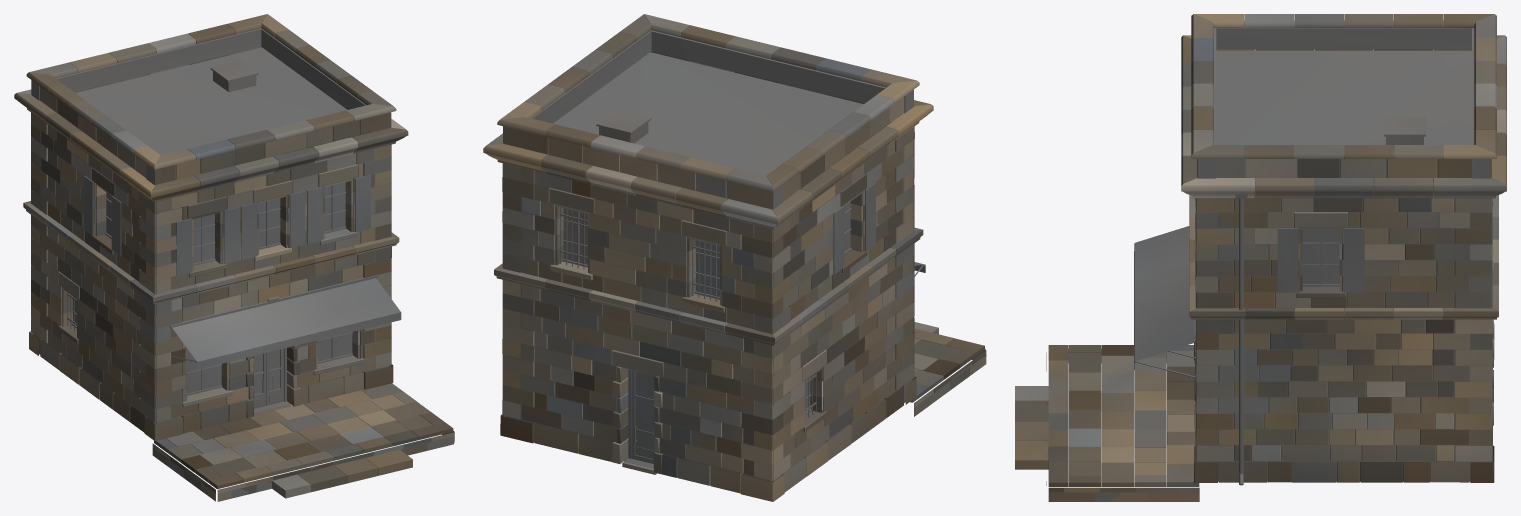
File: Finery_LOD1.glb
3 renders of one model, left to right at view 1: azimuth 30°, elevation 25°; view 2: azimuth 150°, elevation 25°; view 3: azimuth 270°, elevation 25°, orthographic. The views are drawn at different scales.
Parts seen in each view (by area): view 1: Finery_Masonry_LOD1, Finery_Trim_LOD1, Finery_Porch_LOD1, Finery_Roof_LOD1, Finery_Metal_LOD1, Finery_Canvas_LOD1, Finery_Glass_LOD1; view 2: Finery_Masonry_LOD1, Finery_Trim_LOD1, Finery_Roof_LOD1, Finery_Metal_LOD1, Finery_Porch_LOD1, Finery_Glass_LOD1; view 3: Finery_Masonry_LOD1, Finery_Trim_LOD1, Finery_Porch_LOD1, Finery_Roof_LOD1, Finery_Canvas_LOD1, Finery_Metal_LOD1, Finery_Glass_LOD1.
Boxes of the visible parts, x1=… form: Finery_Masonry_LOD1: x1=29, y1=28, x2=393, y2=440; Finery_Trim_LOD1: x1=14, y1=14, x2=408, y2=417; Finery_Porch_LOD1: x1=152, y1=383, x2=454, y2=501; Finery_Roof_LOD1: x1=76, y1=47, x2=346, y2=155; Finery_Metal_LOD1: x1=67, y1=132, x2=394, y2=413; Finery_Canvas_LOD1: x1=172, y1=278, x2=401, y2=369; Finery_Glass_LOD1: x1=73, y1=135, x2=352, y2=394; Finery_Masonry_LOD1: x1=500, y1=30, x2=916, y2=501; Finery_Trim_LOD1: x1=483, y1=14, x2=933, y2=474; Finery_Roof_LOD1: x1=553, y1=52, x2=863, y2=175; Finery_Metal_LOD1: x1=560, y1=147, x2=925, y2=468; Finery_Porch_LOD1: x1=622, y1=322, x2=986, y2=474; Finery_Glass_LOD1: x1=563, y1=149, x2=854, y2=408; Finery_Masonry_LOD1: x1=1194, y1=20, x2=1494, y2=482; Finery_Trim_LOD1: x1=1181, y1=14, x2=1506, y2=434; Finery_Porch_LOD1: x1=1015, y1=345, x2=1199, y2=501; Finery_Roof_LOD1: x1=1216, y1=50, x2=1471, y2=178; Finery_Canvas_LOD1: x1=1134, y1=226, x2=1194, y2=369; Finery_Metal_LOD1: x1=1134, y1=194, x2=1364, y2=485; Finery_Glass_LOD1: x1=1302, y1=230, x2=1339, y2=283.
Bounding box in the file's own units: 8.46 × 9.19 × 11.73.
